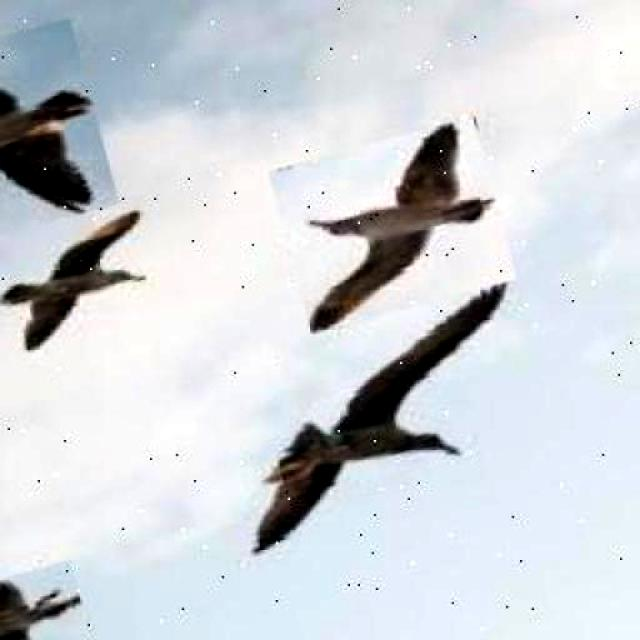airplane: (200, 278, 558, 555), (268, 115, 516, 332), (0, 18, 118, 258), (0, 209, 168, 355), (0, 559, 98, 640)
